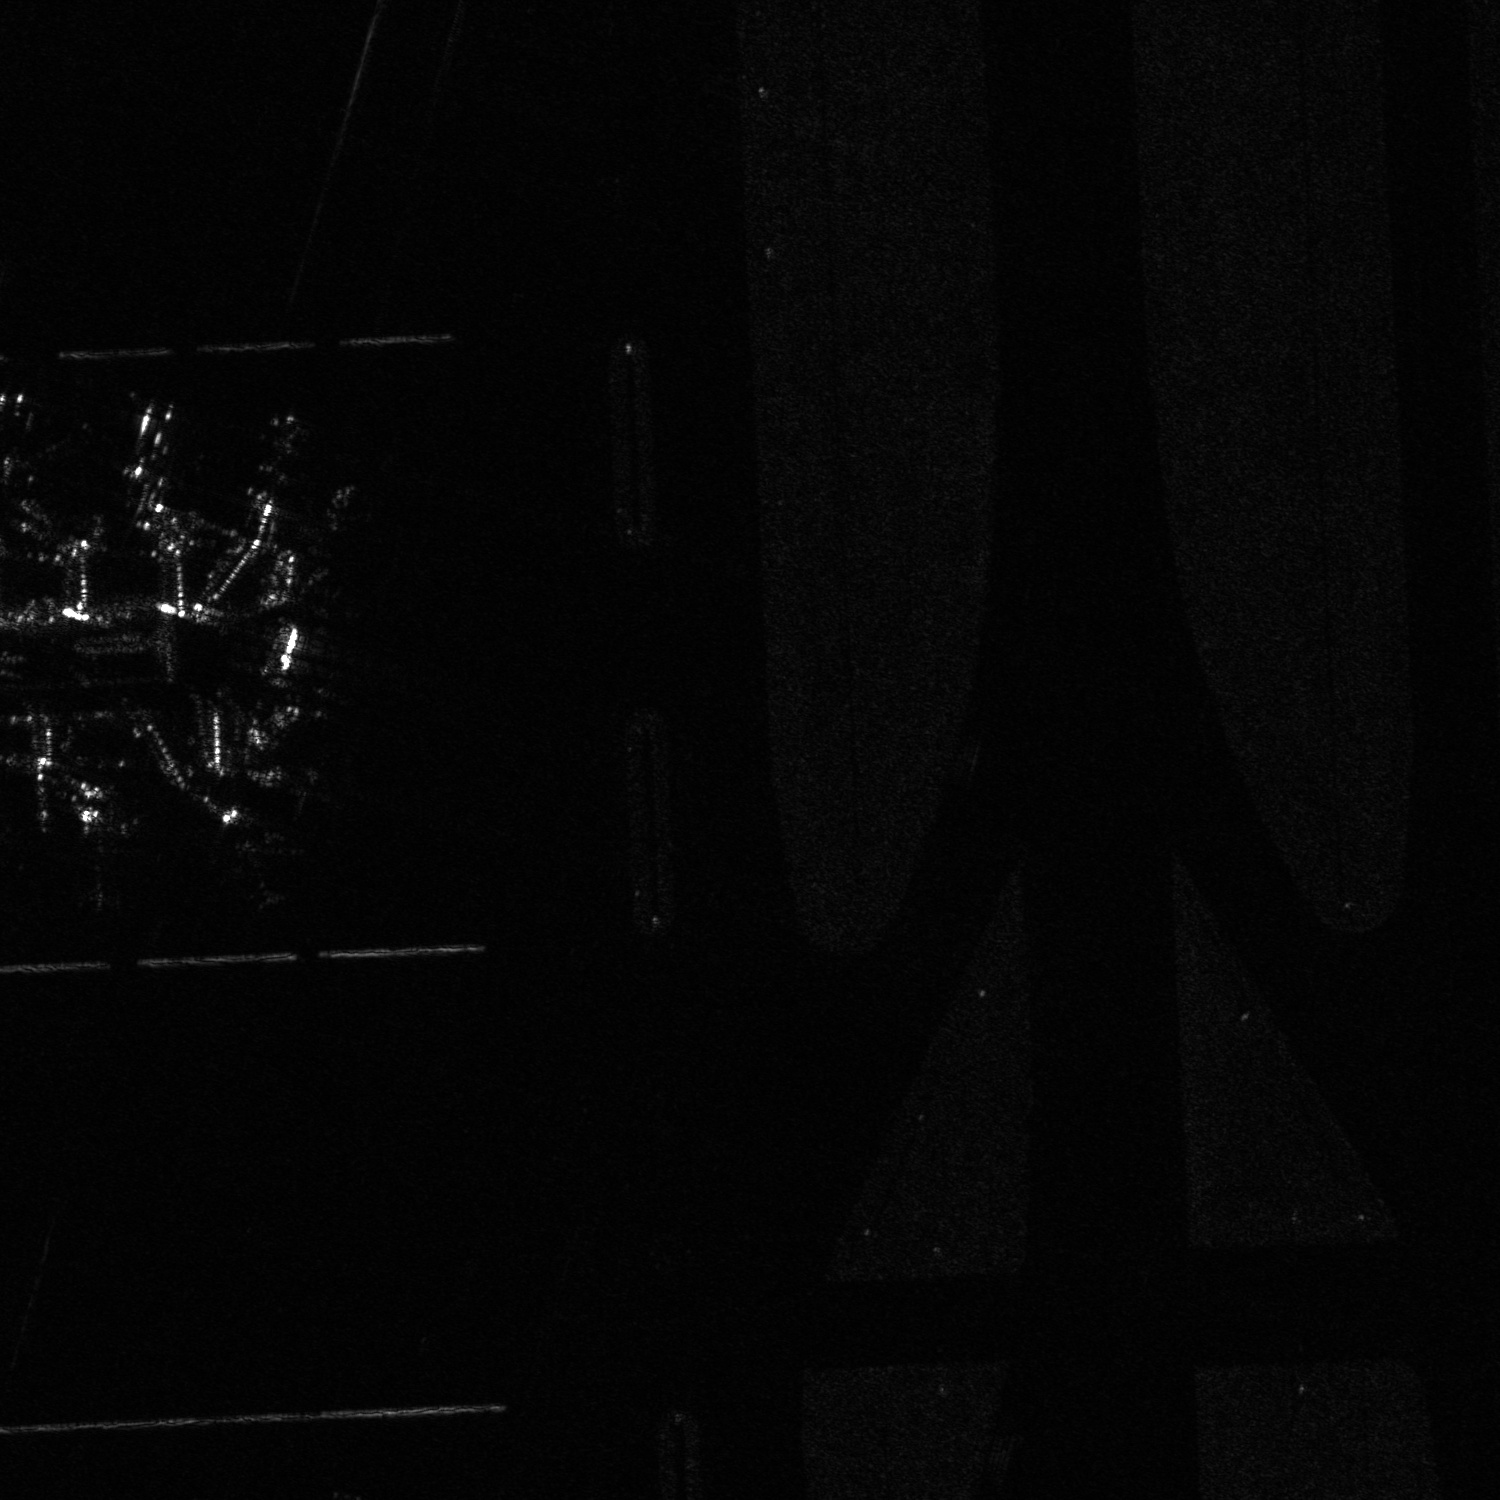A320/321: (84, 393, 210, 512)
Boeing737: (202, 802, 316, 912)
other: (43, 804, 157, 912), (1, 393, 69, 510)
